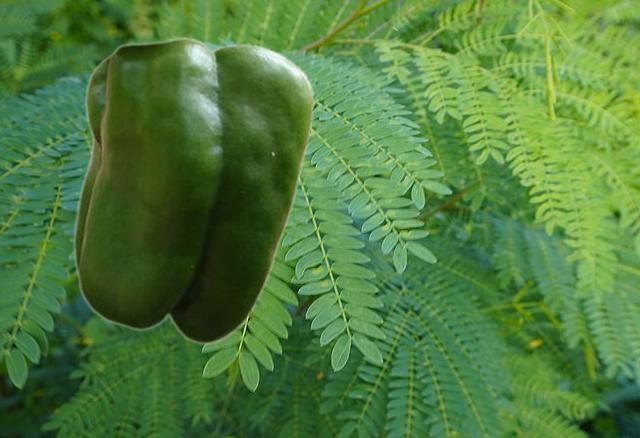bell_pepper: (72, 36, 315, 344)
